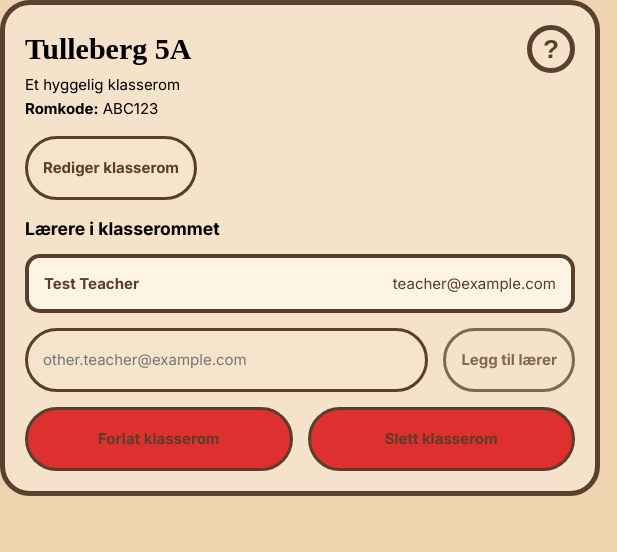
TeachersEditClassroom › shows error when inviting teacher fails
The image size is (617, 552).
Type "new.teacher@example.com" into the field with placeholder "other.teacher@example.com".
click(227, 360); type("new.teacher@example.com")  # box left=25, top=328, right=428, bottom=392
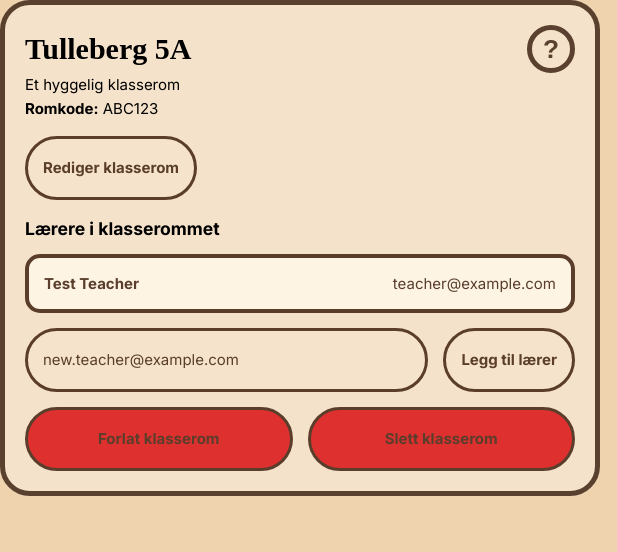
Click the button "Legg til lærer".
click(509, 360)  # box left=443, top=328, right=575, bottom=392
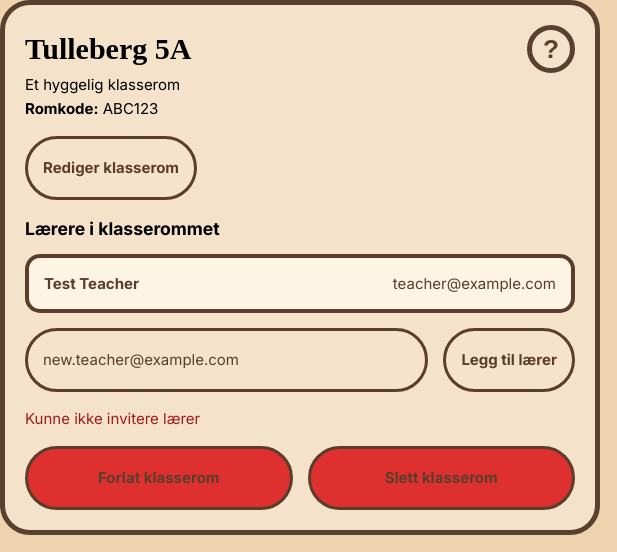
Result: the text "Kunne ikke invitere lærer" is shown at left=25, top=409, right=200, bottom=428
